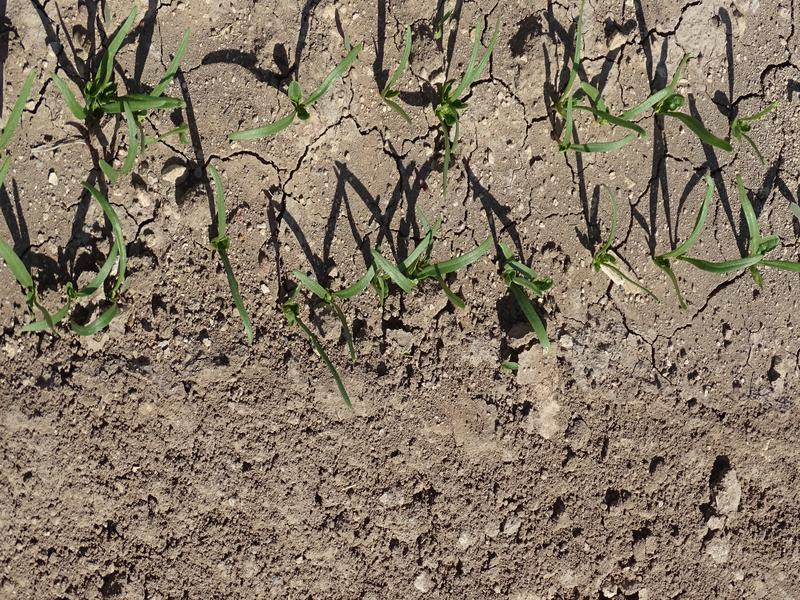Espinaca: (1, 21, 193, 335), (559, 11, 771, 161), (283, 227, 492, 377), (661, 183, 797, 294), (223, 41, 366, 141), (432, 13, 507, 191), (210, 165, 259, 343), (592, 184, 655, 303), (495, 241, 555, 352), (378, 26, 417, 123)
